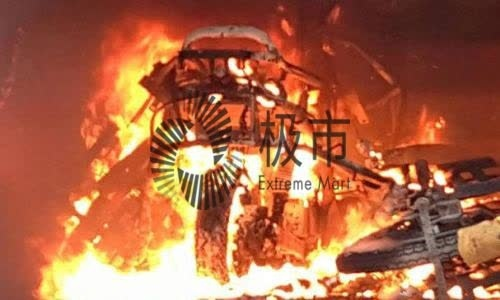fire: (38, 26, 495, 295)
